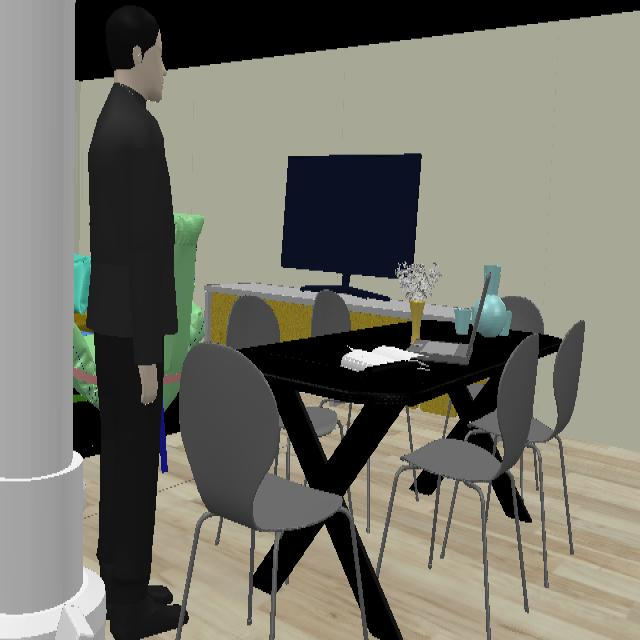book: (337, 345, 417, 366)
chair: (400, 301, 596, 489), (183, 349, 343, 529), (219, 296, 279, 346), (305, 290, 350, 332), (300, 402, 343, 434)
laptop: (406, 274, 494, 365)
monitor: (282, 156, 415, 279)
person: (89, 16, 182, 619)
sofa: (160, 214, 210, 346)
table: (226, 331, 509, 640), (485, 449, 527, 524), (474, 327, 511, 388)
